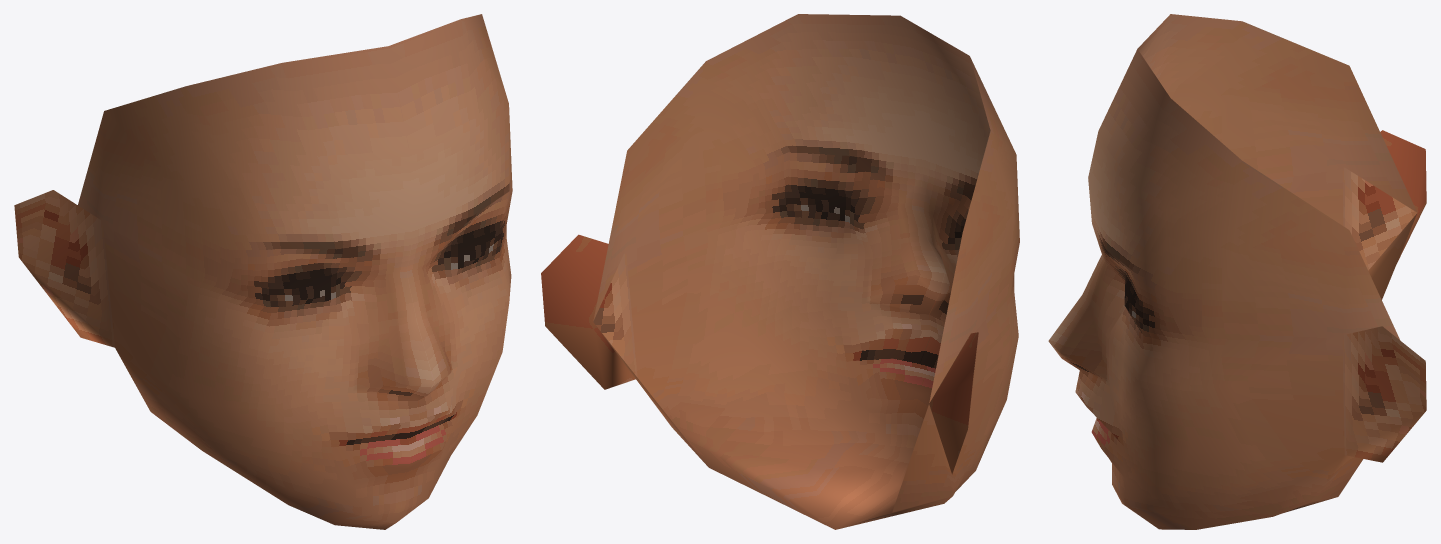
3 renders of one model, left to right at view 1: azimuth 30°, elevation 25°; view 2: azimuth 150°, elevation 25°; view 3: azimuth 270°, elevation 25°, orthographic. The views are drawn at different scales.
Size of the model in its own units: 19.4 by 20.05 by 14.65.
Materials: 1 (1 with a texture image).
